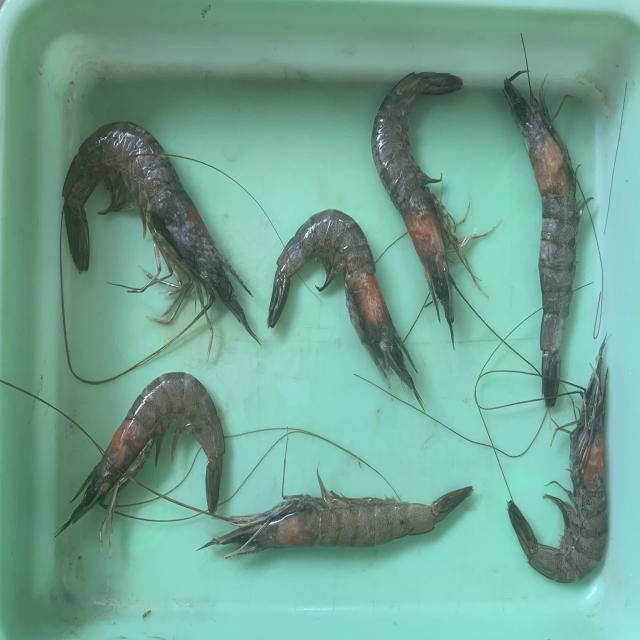shrimp: (62, 121, 259, 342), (372, 71, 482, 345), (55, 372, 225, 548), (267, 209, 420, 401), (504, 69, 586, 408), (509, 340, 609, 584), (201, 472, 473, 558)
